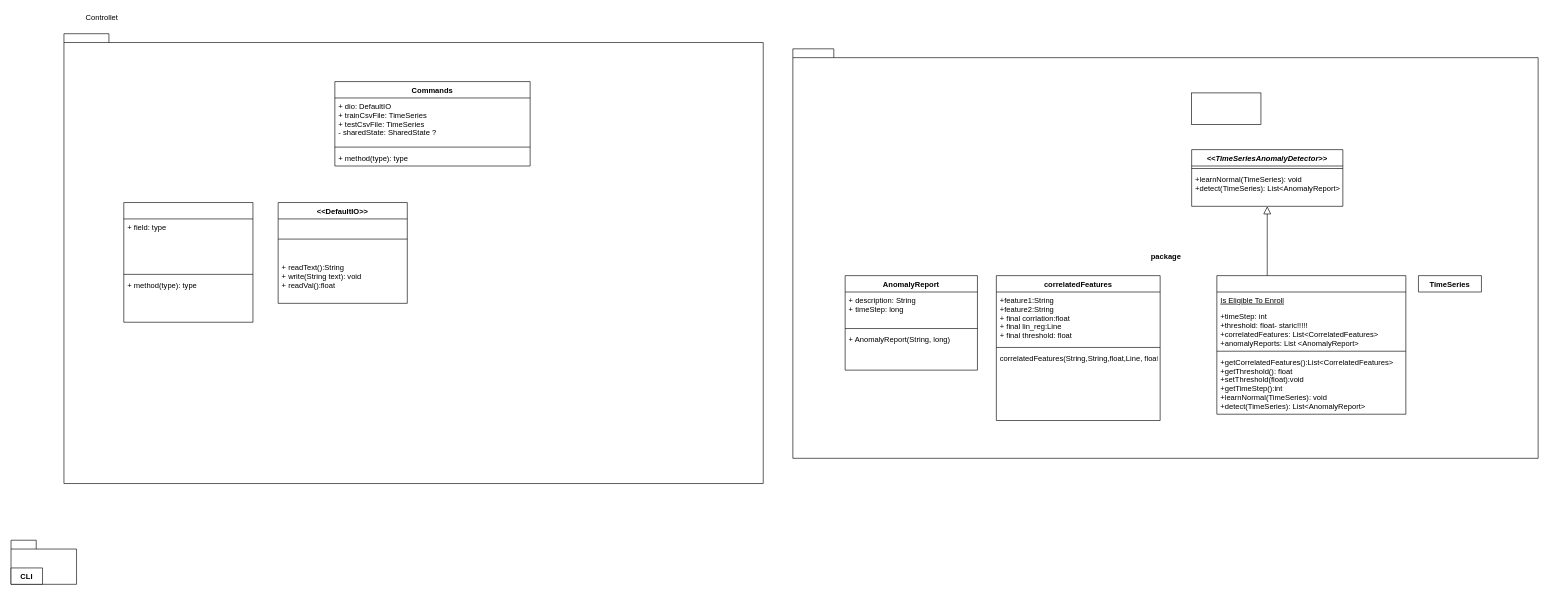
Image size: 1549x595. Some labels were removed from this diagram. The box of each missing label's shape, as (x1, y1, x2, y2) in pixels:
SharedState: (123, 202, 253, 322)
SimpleAnomalyDetector: (1216, 275, 1406, 414)
View: (10, 540, 77, 584)
«interface» Name: (1191, 92, 1261, 124)
